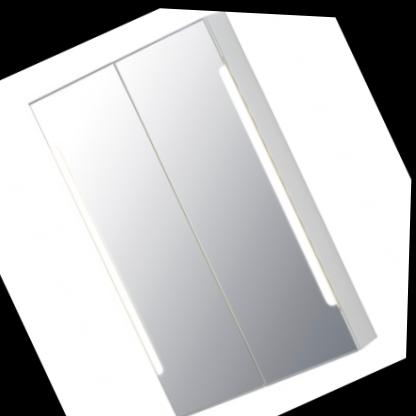Cabinet: (11, 1, 394, 416)
